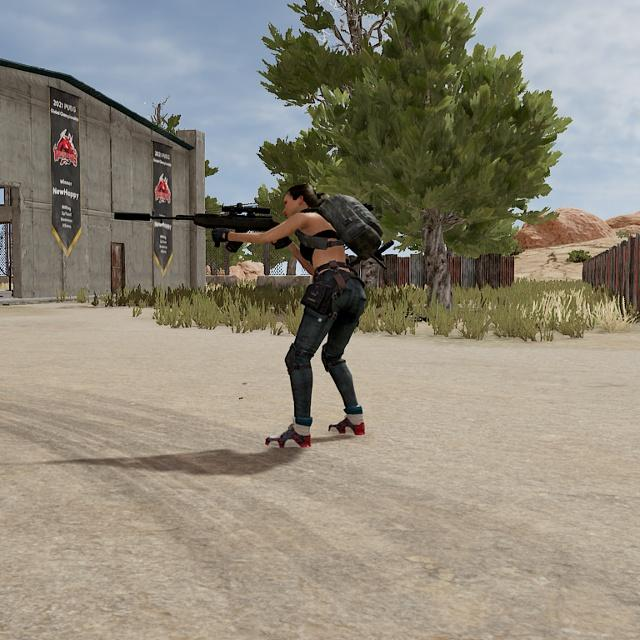head: (280, 182, 321, 224)
people: (266, 181, 373, 451)
